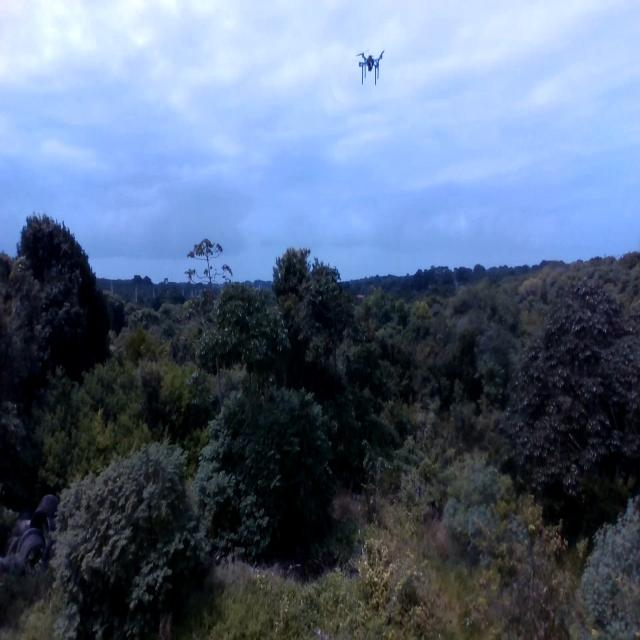-uav-: (352, 40, 389, 95)
